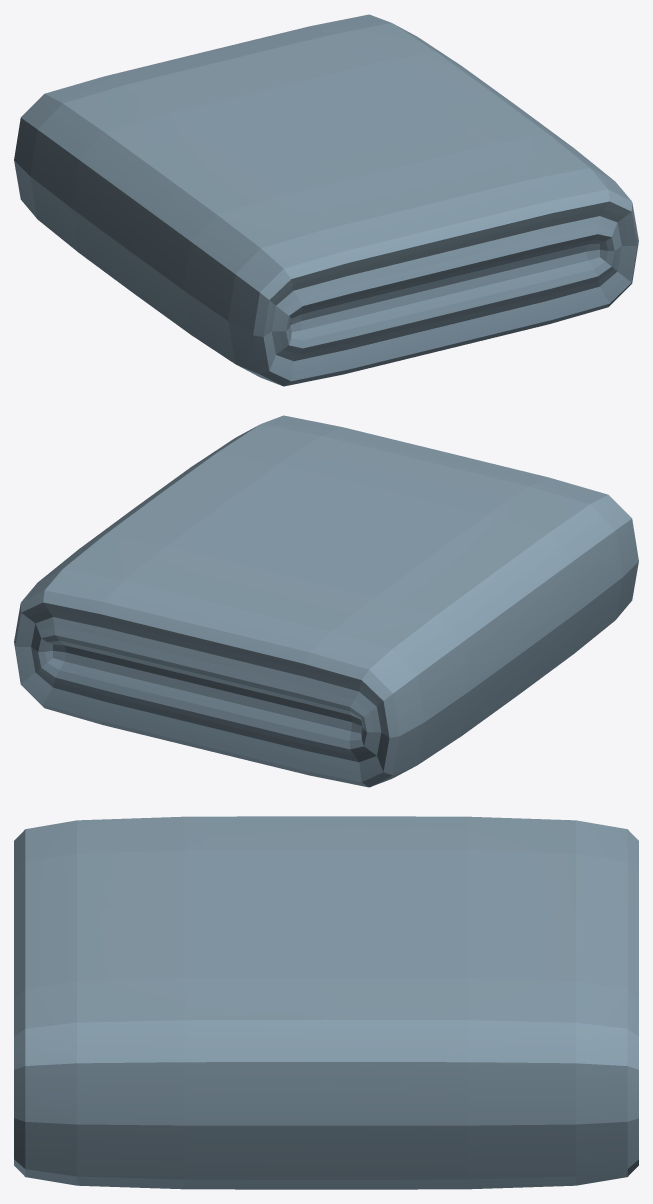
Rendered from Clothes3_C6.fbx.
3 renders of one model, top to bottom at view 1: azimuth 30°, elevation 25°; view 2: azimuth 150°, elevation 25°; view 3: azimuth 270°, elevation 25°, orthographic. The views are drawn at different scales.
Visible parts, largest first — view 1: Clothes3_C6; view 2: Clothes3_C6; view 3: Clothes3_C6.
Part boxes in pixels (left/top/right/bottom): Clothes3_C6: left=14, top=14, right=638, bottom=386; Clothes3_C6: left=14, top=415, right=638, bottom=787; Clothes3_C6: left=14, top=816, right=638, bottom=1189.
Size of the model in its own units: 22.53 by 7.63 by 24.28.
